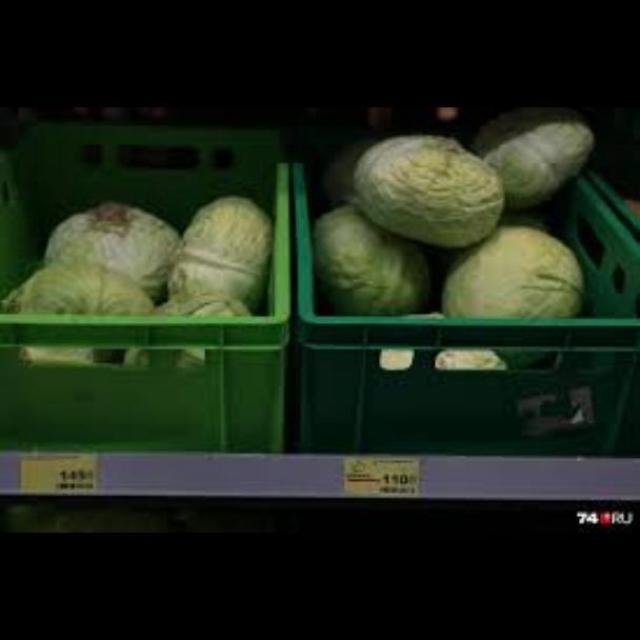cabbage: (314, 201, 451, 353), (360, 118, 500, 238), (448, 204, 568, 334), (34, 194, 191, 282), (4, 233, 160, 321), (171, 177, 275, 296)
